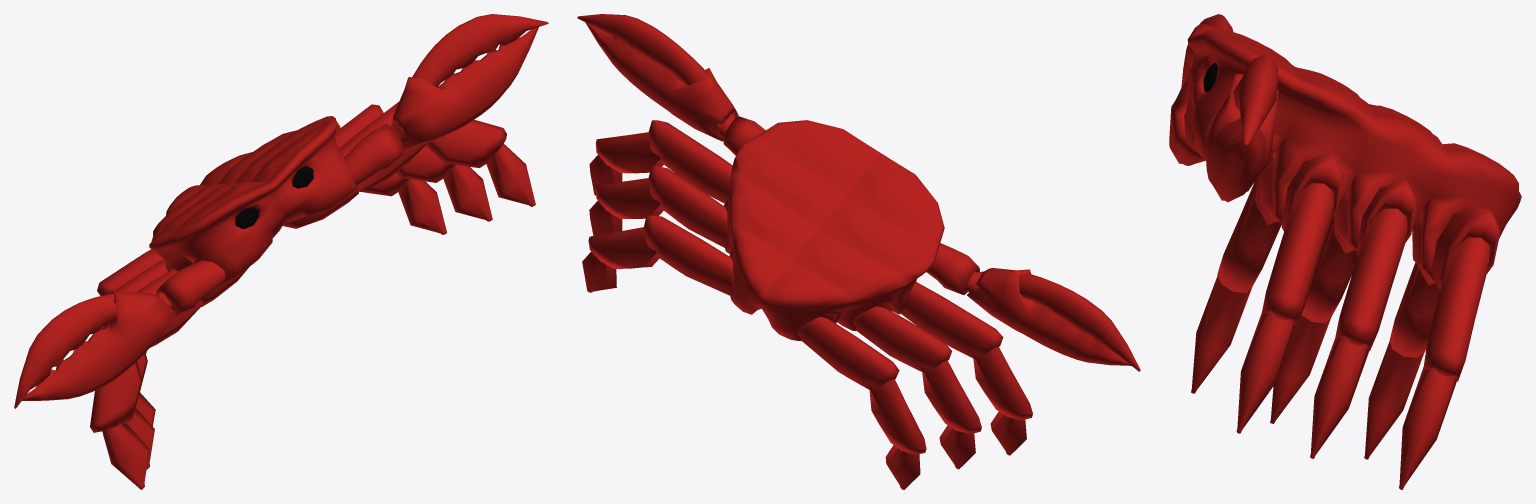
The model's file is Crab.dae.
3 renders of one model, left to right at view 1: azimuth 30°, elevation 25°; view 2: azimuth 150°, elevation 25°; view 3: azimuth 270°, elevation 25°, orthographic. The views are drawn at different scales.
Visible parts, largest first — view 1: polySurface29_ncl1_1; view 2: polySurface29_ncl1_1; view 3: polySurface29_ncl1_1.
Part boxes in pixels (box(x1,y1,x2,y2)): polySurface29_ncl1_1: box(14, 14, 548, 489); polySurface29_ncl1_1: box(577, 14, 1140, 489); polySurface29_ncl1_1: box(1169, 14, 1521, 489).
Size of the model in its own units: 28.15 by 18.56 by 9.17.
